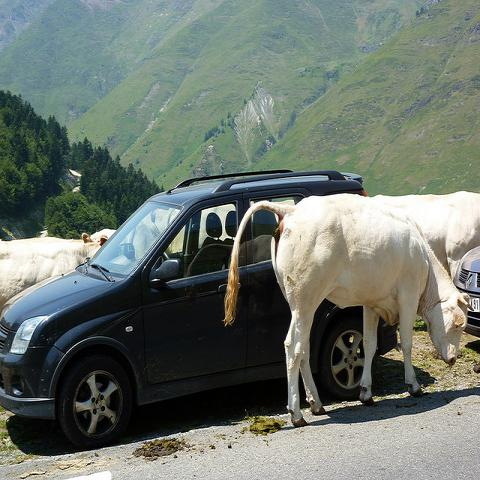car: (0, 168, 400, 454)
